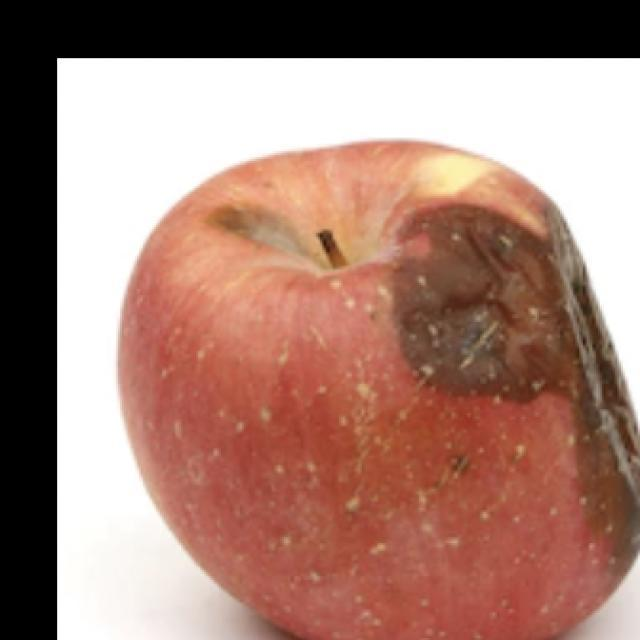Rotten: (128, 145, 638, 640)
